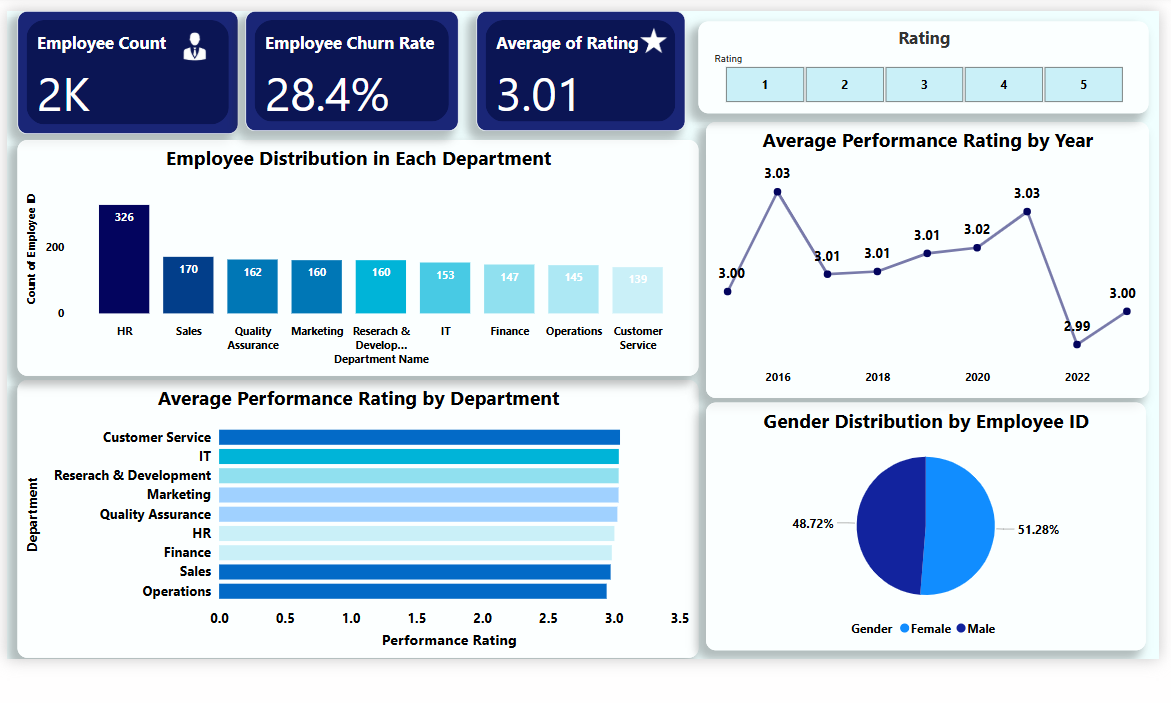

What the dashboard file says about the page in this screenshot:
{"tool":"powerbi","page":{"name":"Employee Overview & Performance ","canvas":[1280,720],"ordinal":0},"visuals":[{"type":"cardVisual","fields":{"Data":["Employee_table.Employee_Count"]},"box":[11.7,0,245,136.7],"z":0},{"type":"cardVisual","fields":{"Data":["Avg(Performance_table.Rating)"]},"box":[521.7,0,231.7,133.3],"z":1000},{"type":"barChart","title":"Average Performance Rating by Department ","fields":{"Category":["Employee_table.DepID"],"Y":["Avg(Performance_table.Rating)"]},"box":[11.7,410,756.7,308.3],"z":2000},{"type":"lineChart","title":"Average Performance Rating by Year","fields":{"Y":["Avg(Performance_table.Rating)"],"Category":["Performance_table.PerfEvaluationDate.Variation.Date Hierarchy.Year"]},"box":[776.7,123.3,491.7,306.7],"z":3000},{"type":"pieChart","title":"Gender Distribution by Employee ID","fields":{"Y":["CountNonNull(Employee_table.EmpID)"],"Category":["Employee_table.GenderID"]},"box":[776.7,435,488.3,275],"z":4000},{"type":"columnChart","title":"Employee Distribution in Each Department ","fields":{"Category":["Employee_table.DepID"],"Y":["CountNonNull(Employee_table.EmpID)"]},"box":[11.7,143.3,756.7,261.7],"z":5000},{"type":"slicer","title":"Rating","fields":{"Values":["Performance_table.Rating"]},"box":[768.3,11.7,500,101.7],"z":6000},{"type":"image","box":[178.3,11.7,55,56.7],"z":7000},{"type":"image","box":[698.3,11.7,40,41.7],"z":8000},{"type":"cardVisual","fields":{"Data":["Employee_table.Employee Churn Rate"]},"box":[265,0,236.7,133.3],"z":9000}]}

Visuals, with their boxes on the page's 1280x720 design canvas (x1, y1, x2, y2). These are canvas units, not pixel positions in the 1171x703 screenshot, which may show the page scaled, cropped or inside an application window:
cardVisual - Employee_table.Employee_Count: 12,0,257,137
cardVisual - Avg(Performance_table.Rating): 522,0,753,133
"Average Performance Rating by Department " barChart: 12,410,768,718
"Average Performance Rating by Year" lineChart: 777,123,1268,430
"Gender Distribution by Employee ID" pieChart: 777,435,1265,710
"Employee Distribution in Each Department " columnChart: 12,143,768,405
"Rating" slicer: 768,12,1268,113
image: 178,12,233,68
image: 698,12,738,53
cardVisual - Employee_table.Employee Churn Rate: 265,0,502,133
